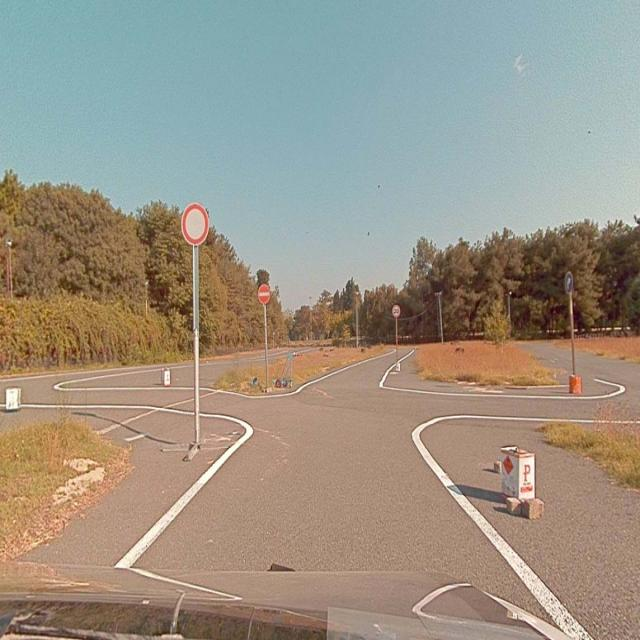20: (392, 303, 400, 317)
girisyok: (258, 285, 271, 303)
sag: (565, 273, 573, 291)
